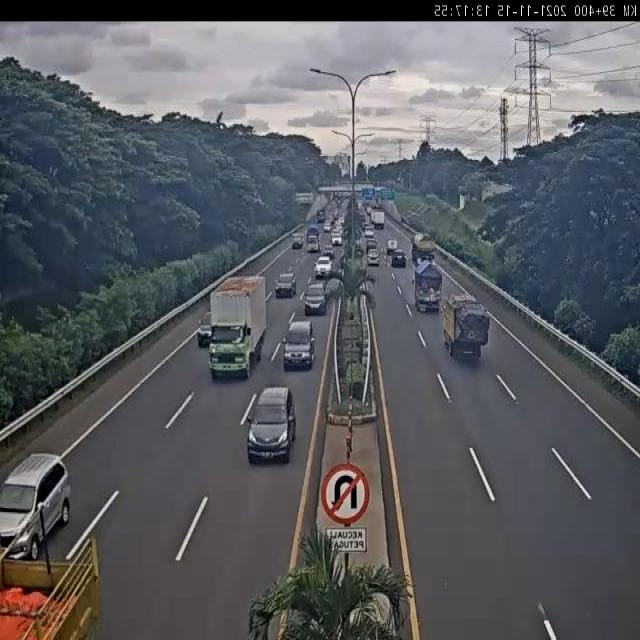Car: (0, 453, 70, 555), (246, 384, 296, 464), (282, 318, 316, 371), (304, 283, 327, 316), (274, 272, 296, 298), (196, 314, 212, 348), (314, 256, 333, 279), (391, 250, 406, 268), (366, 248, 379, 266), (292, 234, 304, 249), (387, 239, 398, 253)
Truck: (0, 530, 102, 638), (208, 275, 267, 381), (442, 291, 491, 362), (409, 259, 444, 314), (409, 231, 436, 267), (306, 224, 320, 253), (373, 209, 387, 229)
